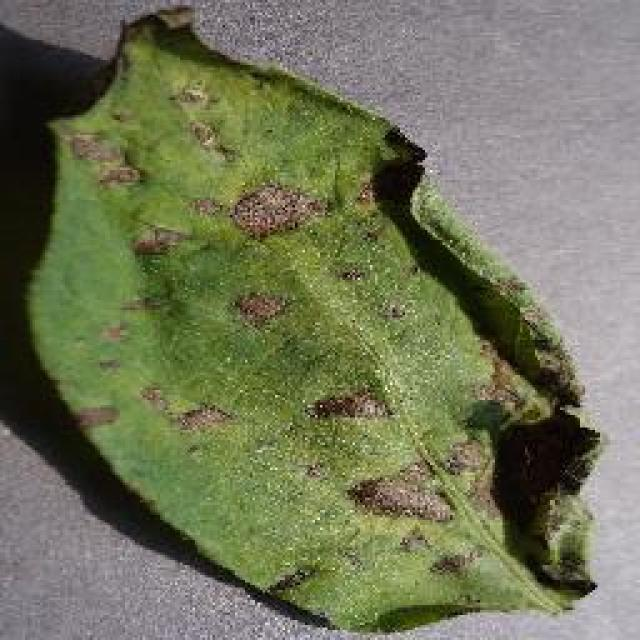early_blight: (23, 5, 605, 637)
